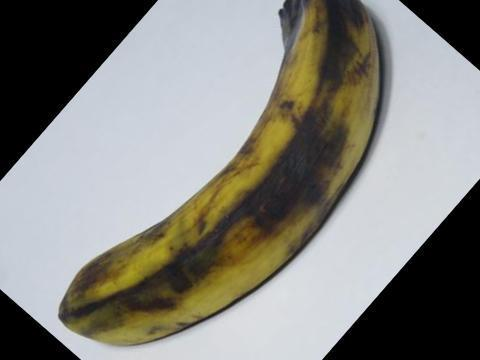overripe: (46, 0, 395, 359)
